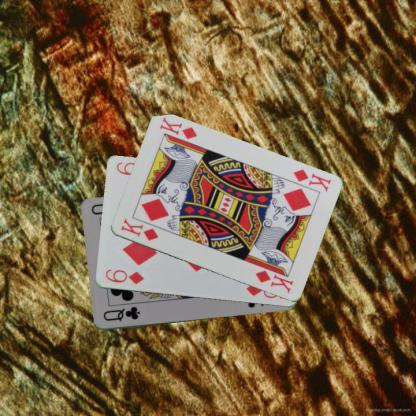6d: (102, 267, 146, 286)
Kd: (290, 166, 332, 193), (118, 216, 159, 243)
Qc: (100, 304, 142, 322)
